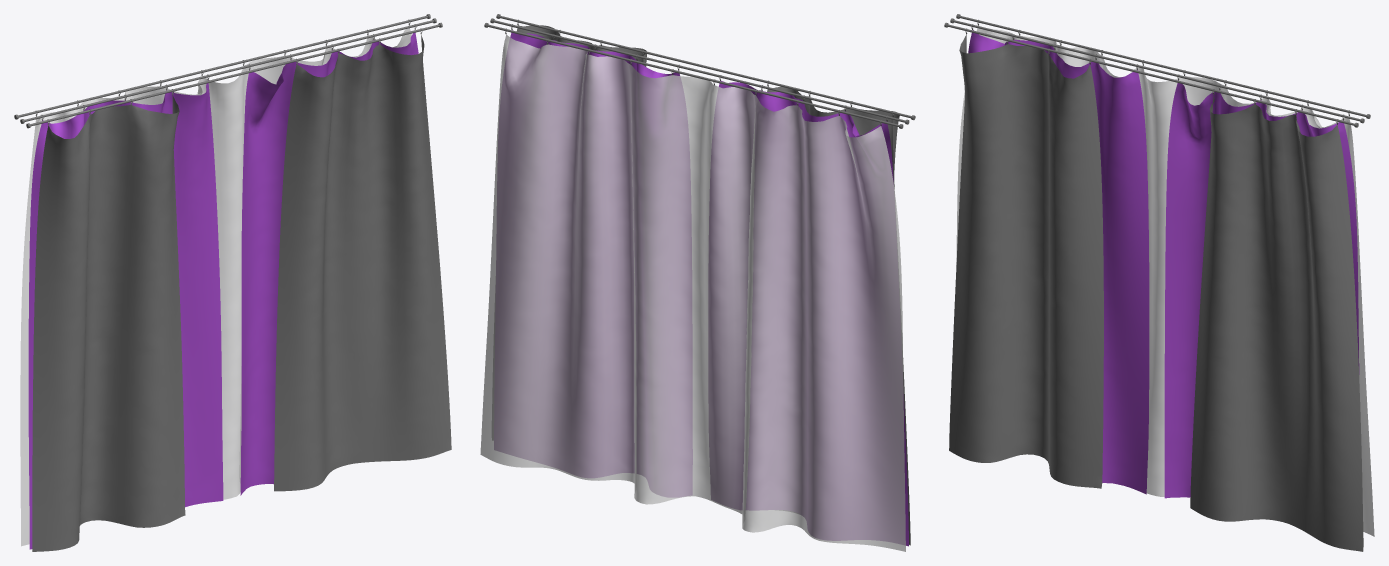
The model's file is Curtains.FBX.
3 views of the same model, side by side, from view 1: azimuth 30°, elevation 25°; view 2: azimuth 150°, elevation 25°; view 3: azimuth 330°, elevation 25° (orthographic).
Visible parts, largest first — view 1: Curtains001, Curtains002, Tulle, Cornice; view 2: Tulle, Curtains002, Cornice, Curtains001; view 3: Curtains001, Curtains002, Tulle, Cornice.
Boxes of the visible parts, x1,y1,x2,y2 form: Curtains001: [32, 35, 451, 551]; Curtains002: [28, 32, 418, 549]; Tulle: [20, 28, 411, 546]; Cornice: [14, 14, 442, 128]; Tulle: [480, 35, 905, 551]; Curtains002: [494, 30, 908, 546]; Cornice: [484, 14, 915, 128]; Curtains001: [492, 25, 910, 545]; Curtains001: [949, 35, 1363, 551]; Curtains002: [968, 30, 1359, 498]; Tulle: [956, 25, 1374, 536]; Cornice: [944, 14, 1370, 127].
Size of the model in its own units: 80.24 by 78 by 13.86.
